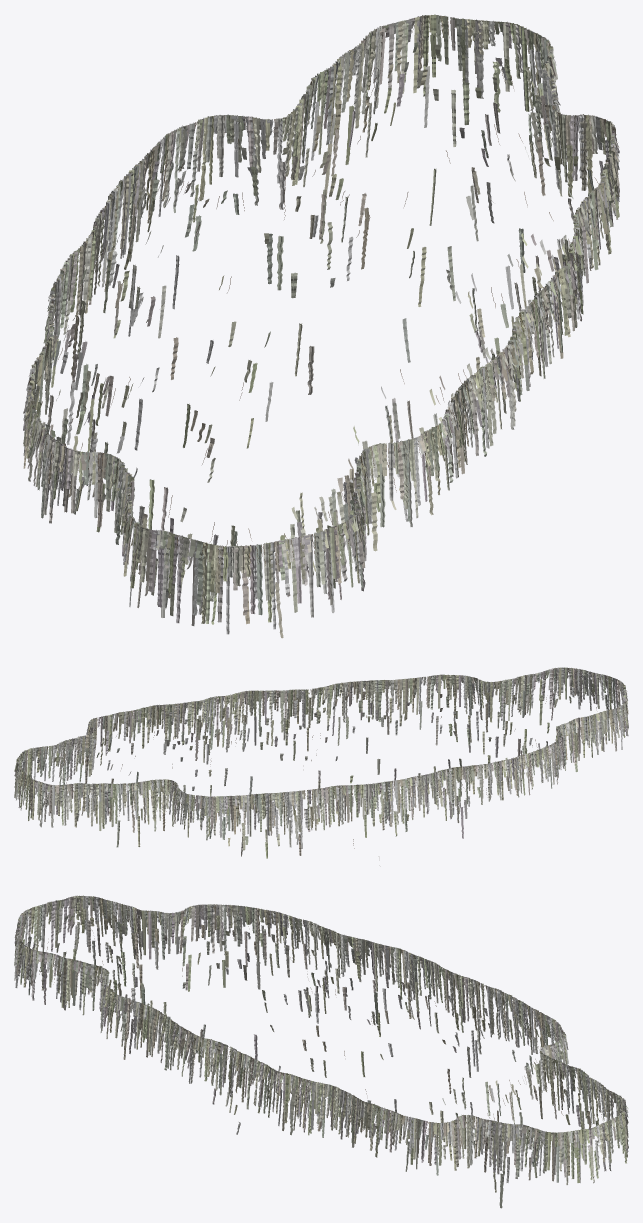
File: SM_H09_Vines.fbx
The picture shows the model from 3 angles, top to bottom: view 1: azimuth 30°, elevation 25°; view 2: azimuth 150°, elevation 25°; view 3: azimuth 270°, elevation 25°; orthographic projection. The views are drawn at different scales.
Parts seen in each view (by area): view 1: SM_H09_Vines; view 2: SM_H09_Vines; view 3: SM_H09_Vines.
Boxes of the visible parts, x1,y1,x2,y2 form: SM_H09_Vines: (23,14,619,638); SM_H09_Vines: (14,667,628,858); SM_H09_Vines: (14,895,628,1208).
Bounding box in the file's own units: 297 × 87.92 × 321.
